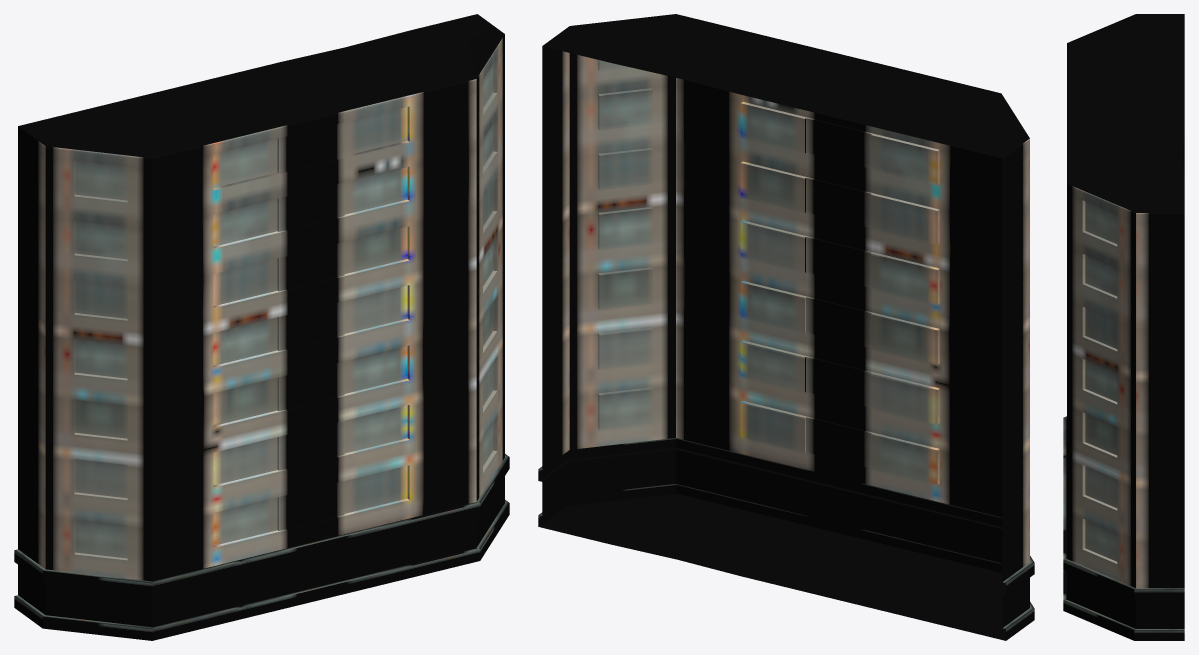
File: Pagoda_Body_Tile_2500x2500_C.FBX
3 renders of one model, left to right at view 1: azimuth 30°, elevation 25°; view 2: azimuth 150°, elevation 25°; view 3: azimuth 270°, elevation 25°, orthographic. The views are drawn at different scales.
Parts seen in each view (by area): view 1: Geometry_Pagoda_Body_Tile_2500x2500_C_LOD00; view 2: Geometry_Pagoda_Body_Tile_2500x2500_C_LOD00; view 3: Geometry_Pagoda_Body_Tile_2500x2500_C_LOD00.
Part boxes in pixels (x1,y1,x2,y2): Geometry_Pagoda_Body_Tile_2500x2500_C_LOD00: [14, 14, 509, 640]; Geometry_Pagoda_Body_Tile_2500x2500_C_LOD00: [538, 14, 1034, 640]; Geometry_Pagoda_Body_Tile_2500x2500_C_LOD00: [1063, 14, 1184, 640].
Size of what is drawn, in the model's own units: 2540 by 2500 by 645.
